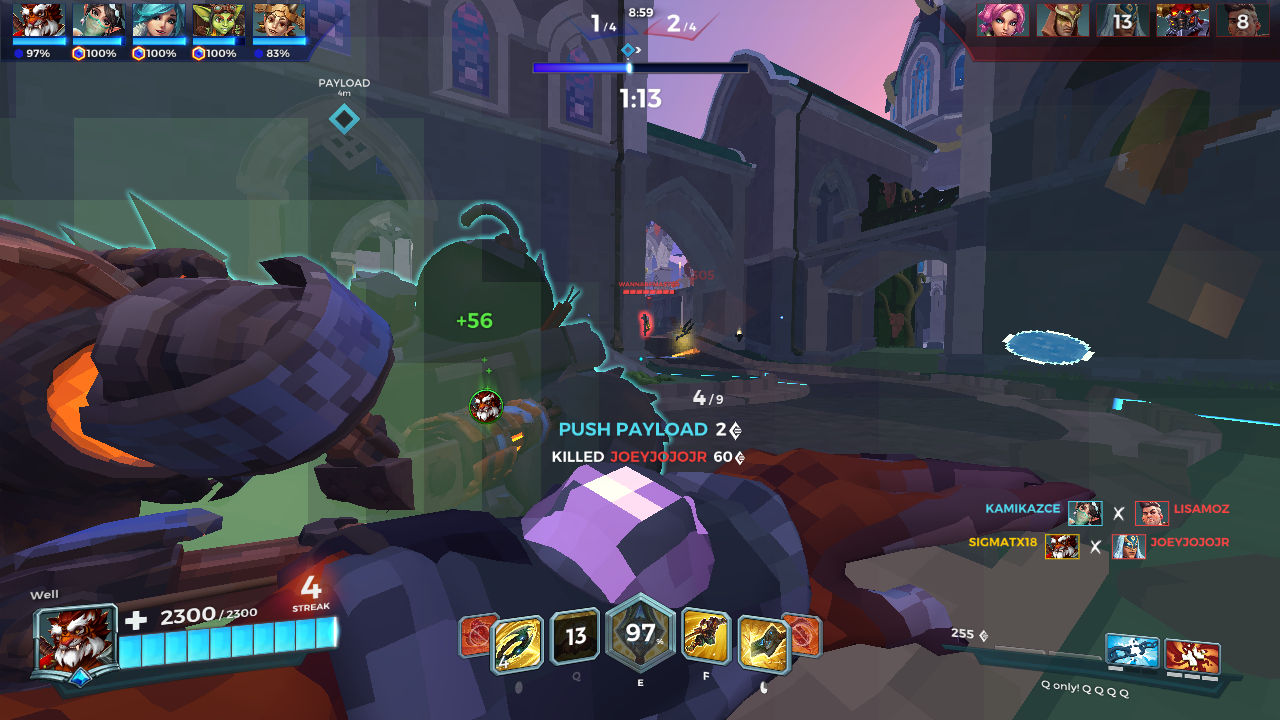model: (636, 310, 654, 340)
